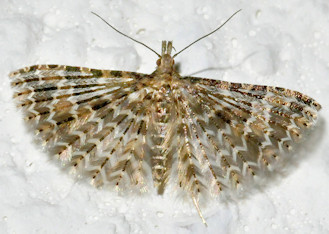Alucitidae: (7, 7, 323, 223)
moth: (5, 5, 321, 221)
